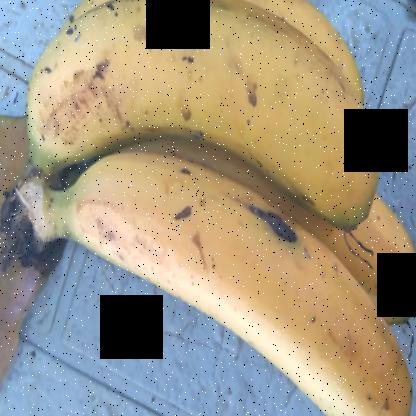ripe: (73, 141, 407, 415), (0, 1, 380, 211)
